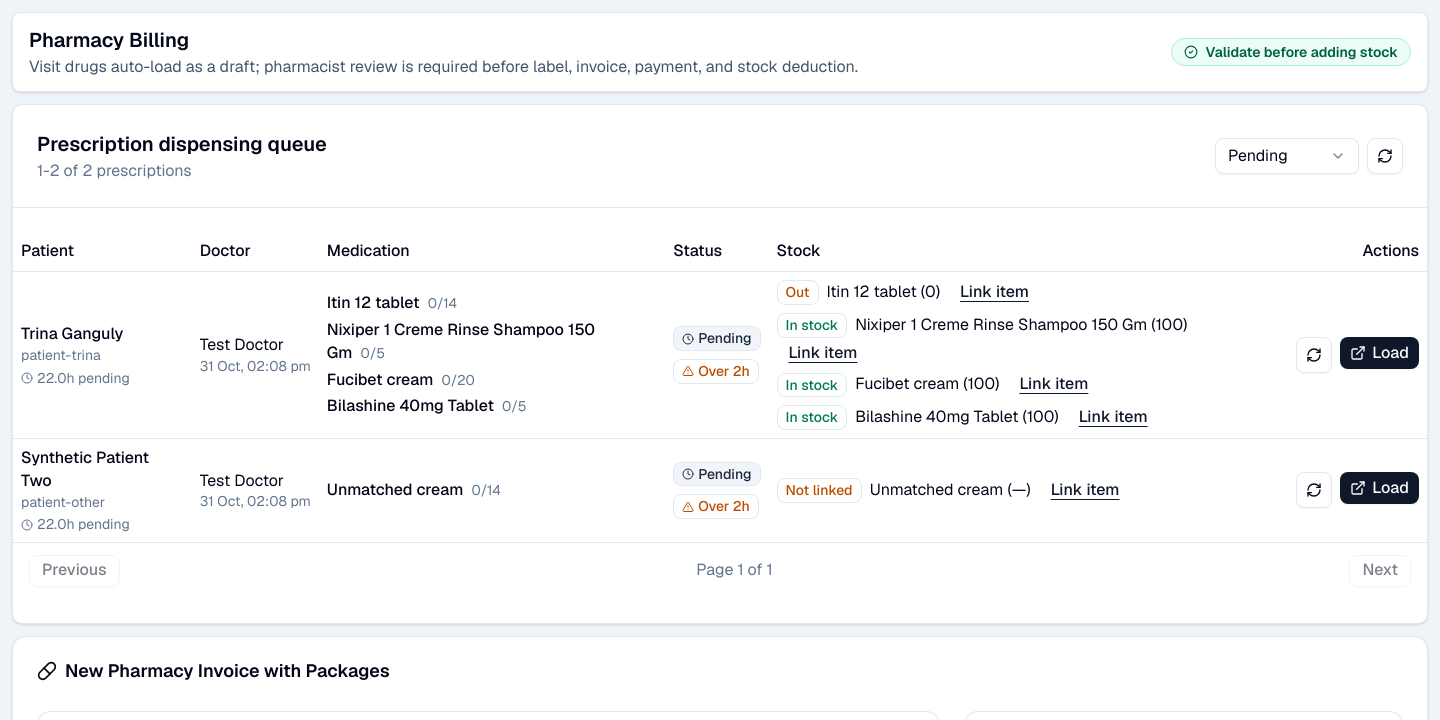
Test: loads inside StrictMode when effects are mounted again
Click the button "Load" in the row of "Trina Ganguly": coordinates (1380, 353) [1340,337,1419,369]
(page scrolled)
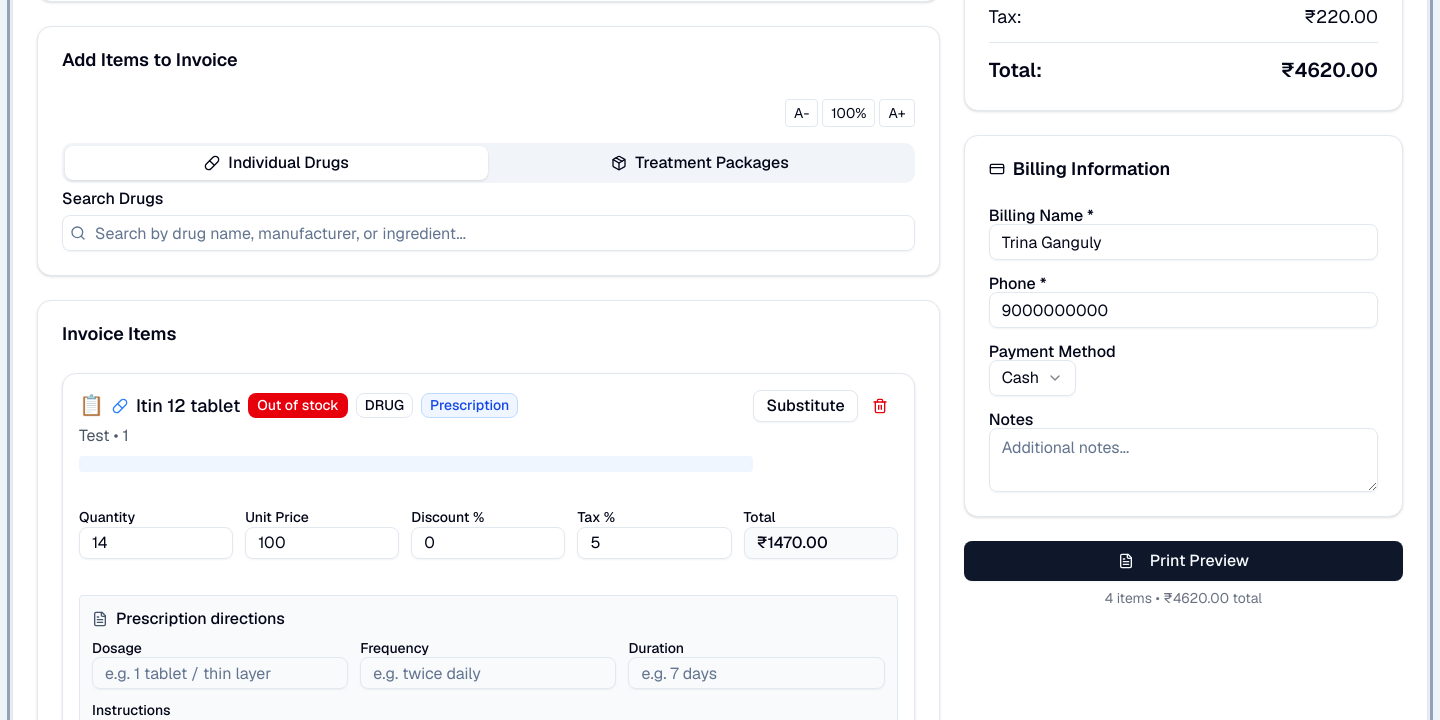
Result: the heading "Itin 12 tablet" is shown at [136,392,240,419]
